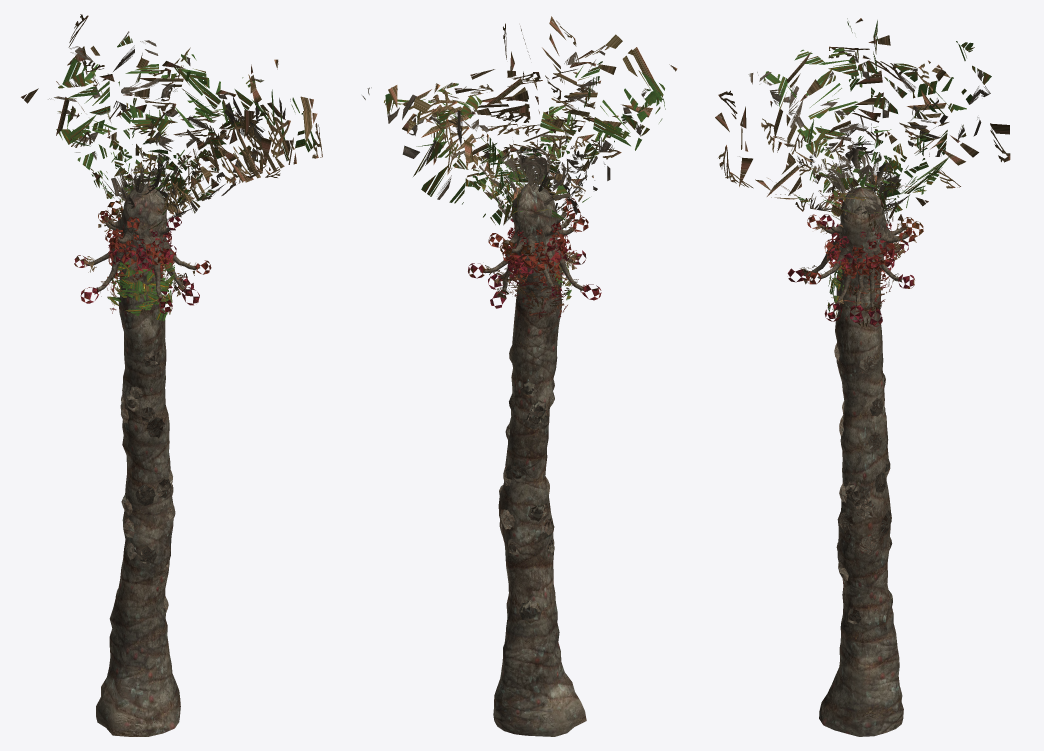
Rendered from Tree - Alien Tree 06 1-D5hYj8mQ.glb.
3 views of the same model, side by side, from view 1: azimuth 30°, elevation 25°; view 2: azimuth 150°, elevation 25°; view 3: azimuth 270°, elevation 25° (orthographic).
Visible parts, largest first — view 1: Tree6_1(Clone); view 2: Tree6_1(Clone); view 3: Tree6_1(Clone).
Part boxes in pixels (x1,y1,x2,y2): Tree6_1(Clone): (21, 14, 322, 736); Tree6_1(Clone): (362, 16, 677, 736); Tree6_1(Clone): (715, 18, 1010, 736).
Bounding box in the file's own units: 6.43 × 14.18 × 6.18.
Materials: 3 (3 with a texture image).
